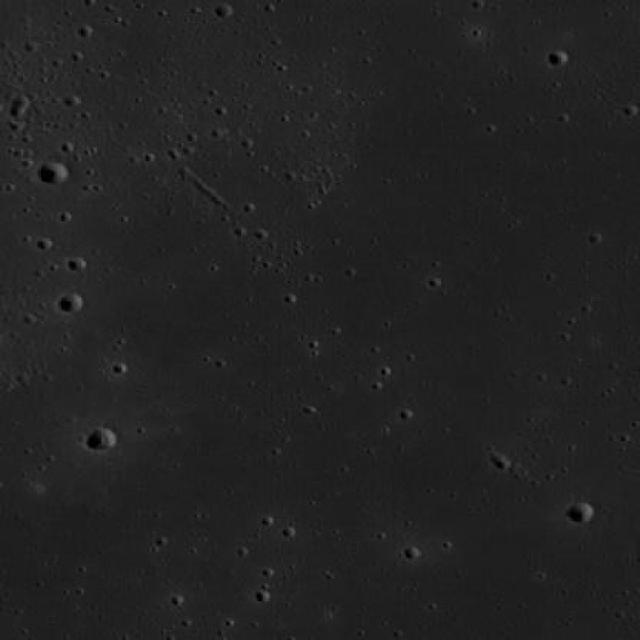crater: (37, 159, 66, 184), (88, 426, 116, 448), (568, 502, 592, 522), (57, 292, 81, 312), (86, 432, 106, 450)
